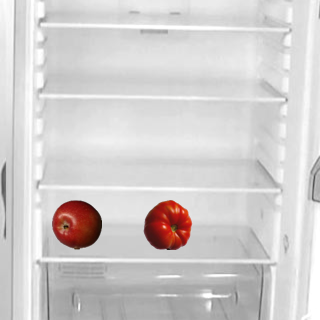Apple Braeburn: (51, 199, 101, 249)
Tomato 3: (142, 199, 192, 249)
